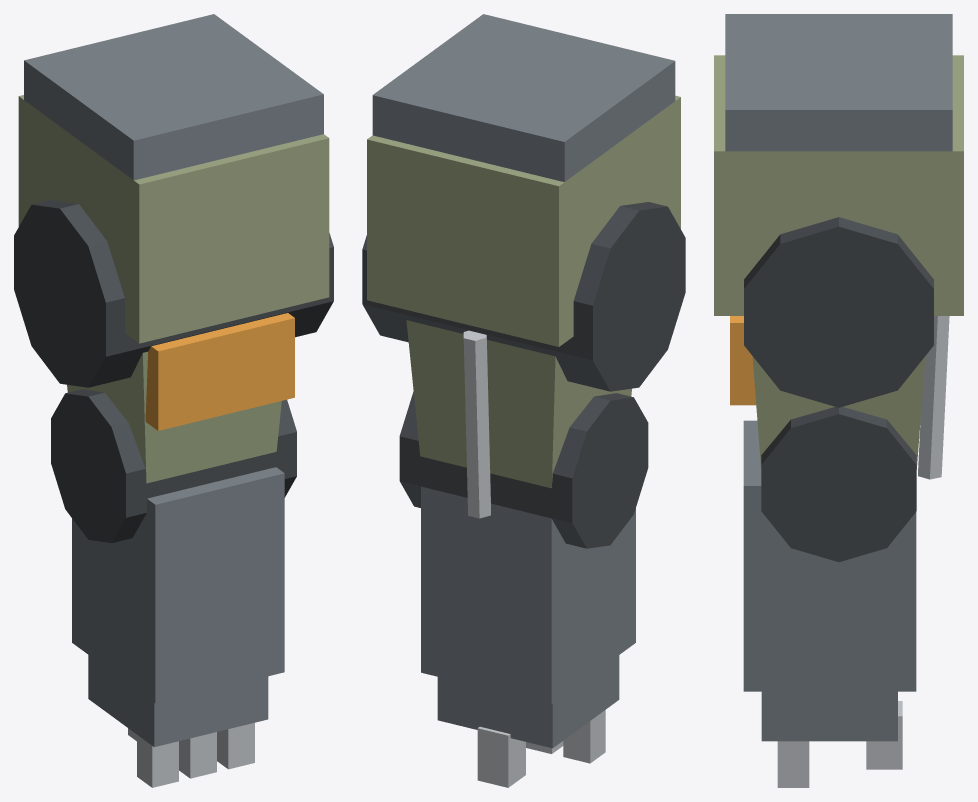
The model's file is mech-hangar-and-battle-frames-line-arm-382e9bb7__26833.glb.
The picture shows the model from 3 angles, left to right: view 1: azimuth 30°, elevation 25°; view 2: azimuth 150°, elevation 25°; view 3: azimuth 270°, elevation 25°; orthographic projection. The views are drawn at different scales.
Visible parts, largest first — view 1: line-arm, elbow (×3); view 2: line-arm, elbow (×3); view 3: line-arm, elbow (×3).
Part boxes in pixels (x1,y1,x2,y2): line-arm: (14,14,333,483); elbow (×3): (51,389,296,787); line-arm: (362,14,685,488); elbow (×3): (399,330,648,787); line-arm: (714,14,963,469); elbow (×3): (743,316,949,787).
Bounding box in the file's own units: 0.6 × 1.7 × 0.55.
